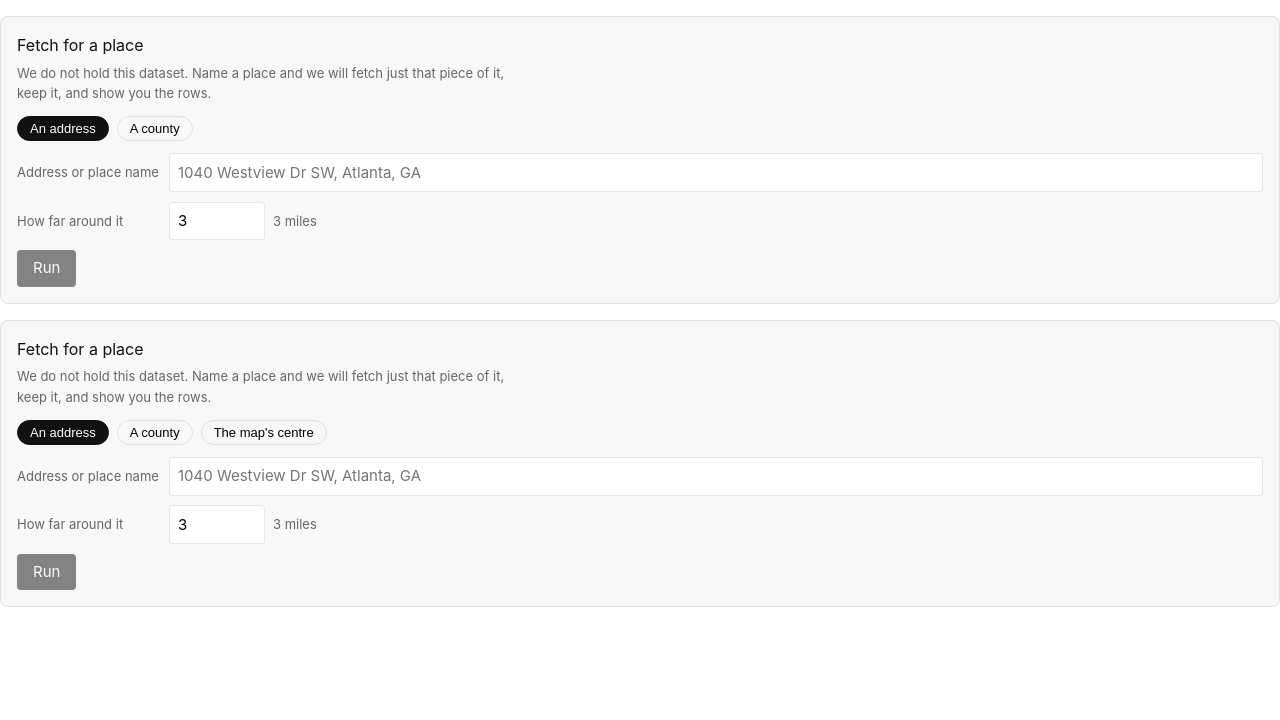
Test: saying where › offers an address and a county, and the map centre only when there is one
What coordinates should you click on to do the following:
click the button with test id "mode-center"
I would click on:
 (264, 432)
Its box is [201, 420, 327, 445].
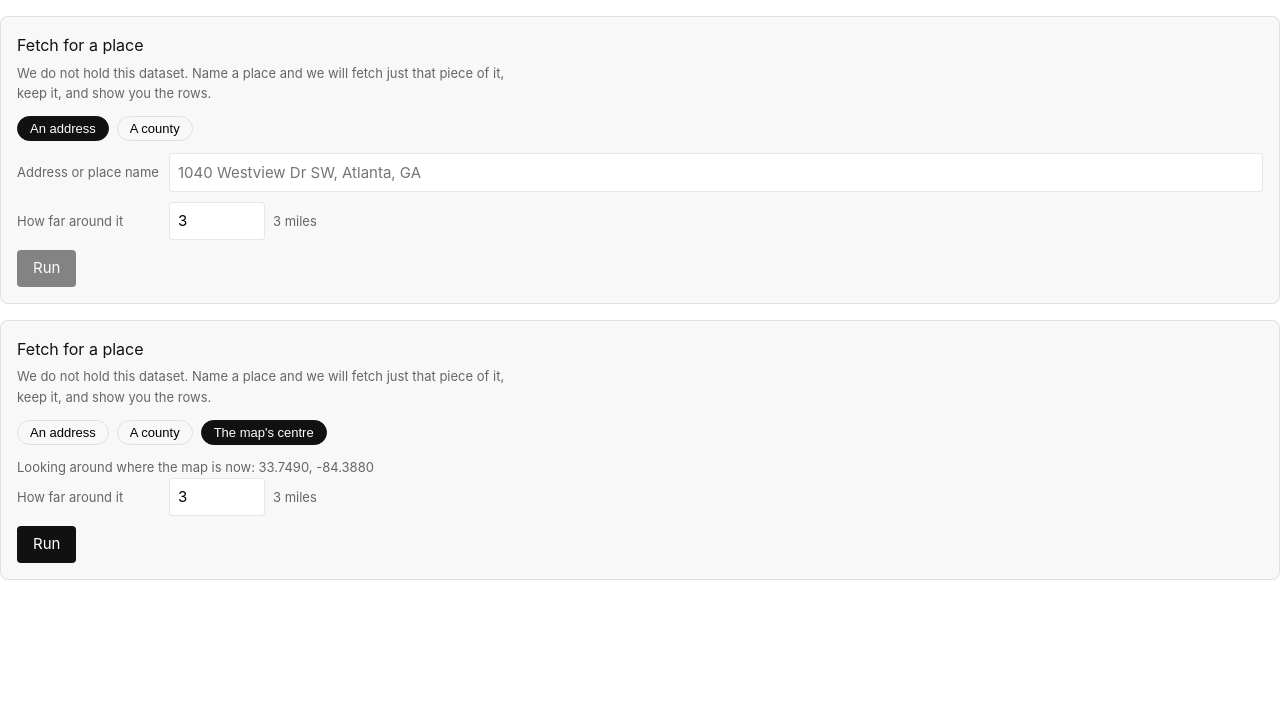
Expected: the text with test id "center-note" shows "33.7490, -84.3880", [17, 459, 374, 475]
